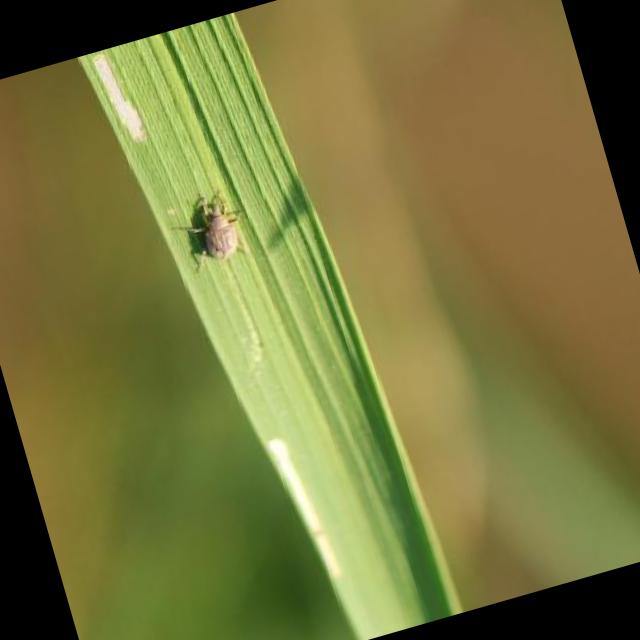rice-bug: (158, 178, 254, 276)
